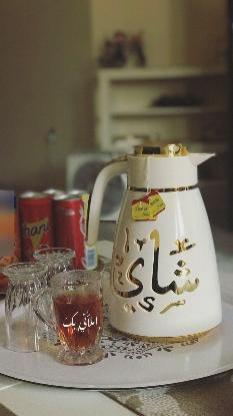Can: (16, 192, 58, 270), (51, 195, 89, 269)
